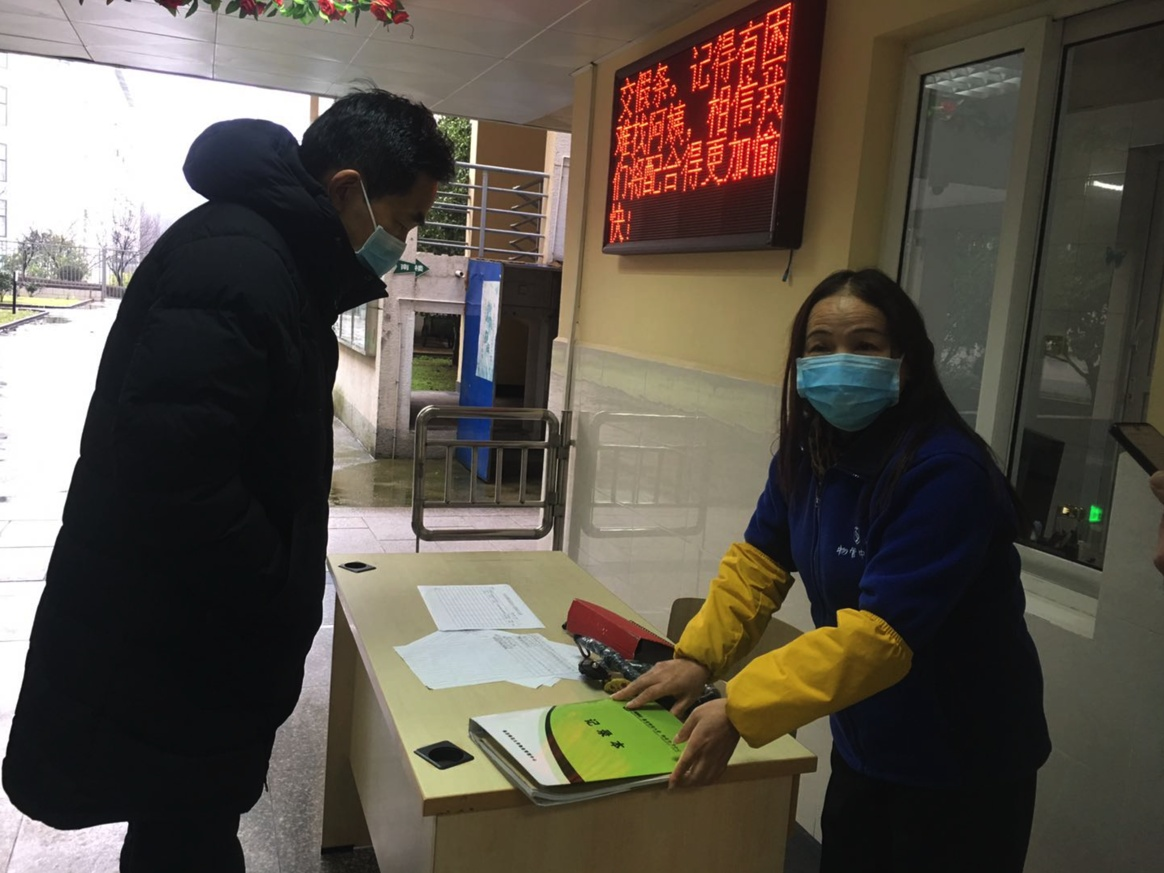correctlyWear: (789, 315, 904, 432), (322, 162, 432, 284)
